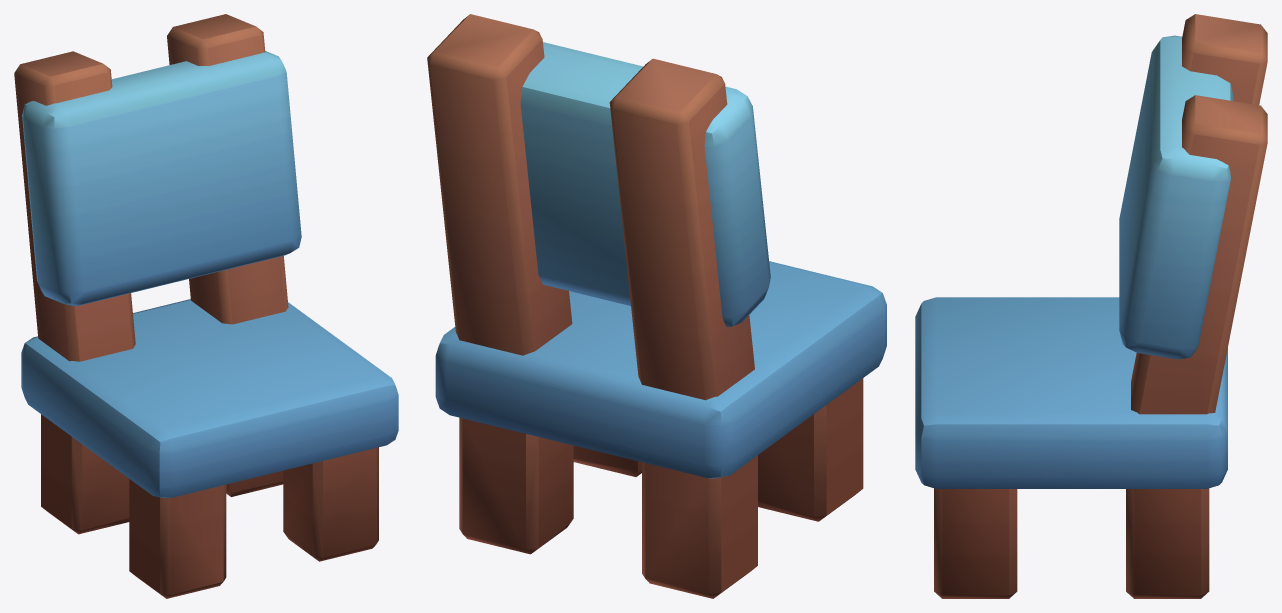
The model's file is chair_B.glb.
3 views of the same model, side by side, from view 1: azimuth 30°, elevation 25°; view 2: azimuth 150°, elevation 25°; view 3: azimuth 270°, elevation 25° (orthographic). The views are drawn at different scales.
Parts seen in each view (by area): view 1: chair_B; view 2: chair_B; view 3: chair_B.
Boxes of the visible parts, x1,y1,x2,y2 form: chair_B: (14, 14, 398, 598); chair_B: (427, 14, 886, 598); chair_B: (915, 14, 1267, 598).
Size of the model in its own units: 0.75 by 1.26 by 0.8451.
Materials: 1 (1 with a texture image).
